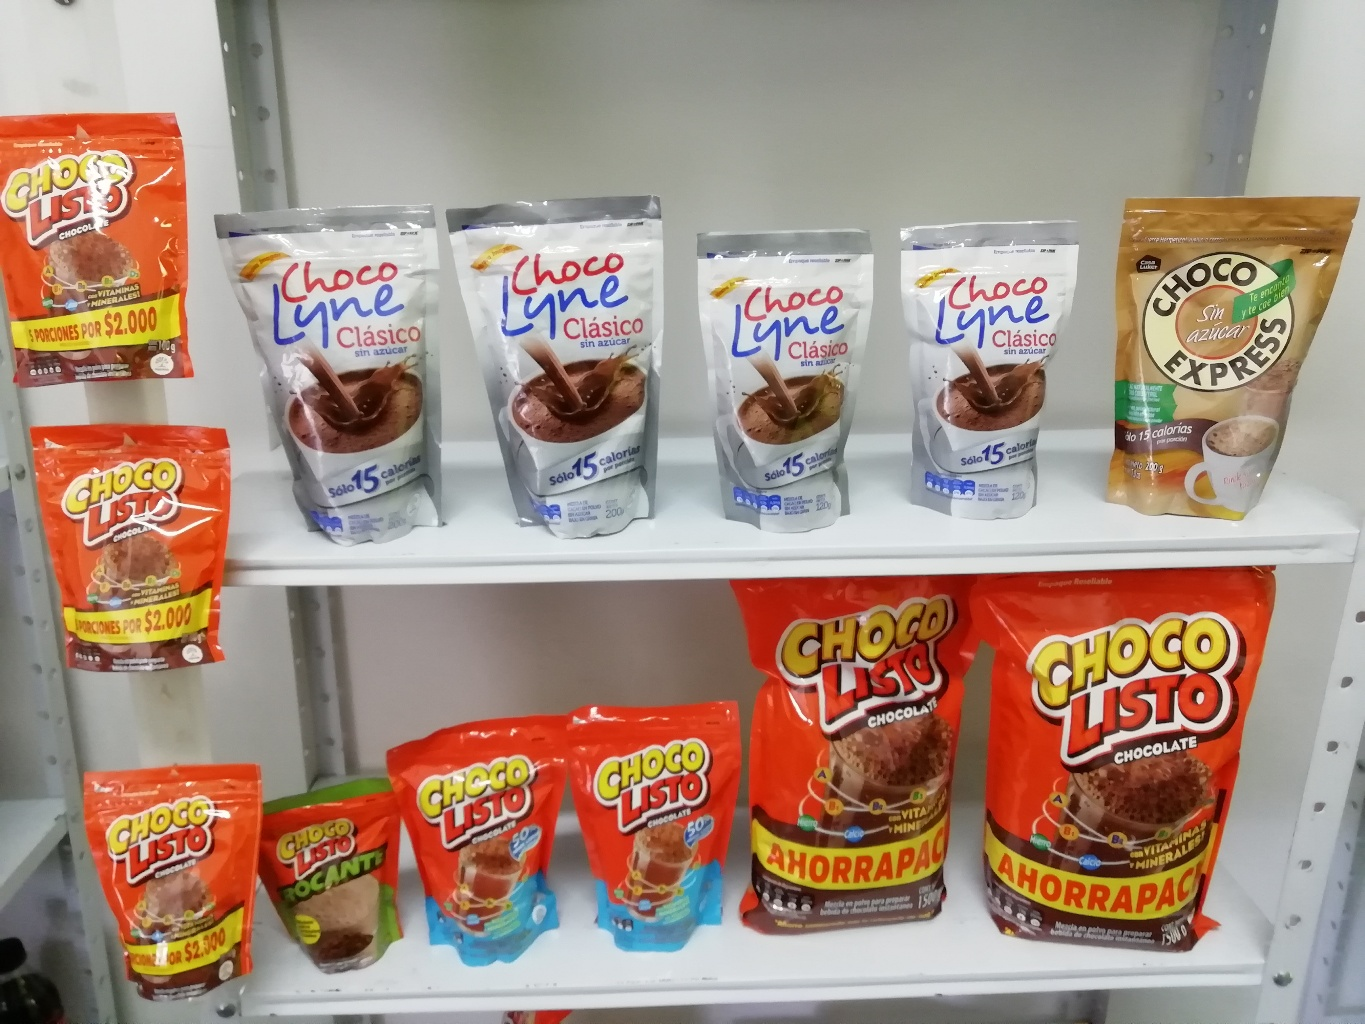COL0170102DYP10000: (258, 781, 410, 980)
COL0170103DYP1,500: (971, 574, 1279, 972)
COL0170103DYP10000: (0, 110, 203, 385)
COL0170104DYP20000: (577, 695, 736, 951)
